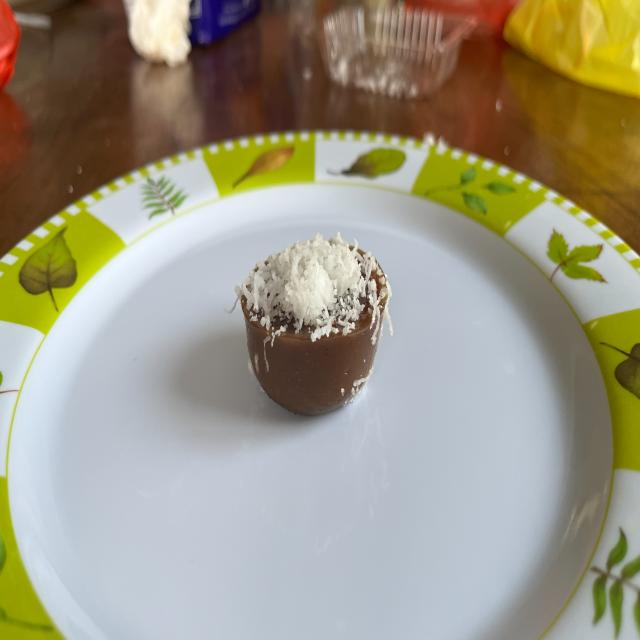Kuih lompang: (235, 233, 392, 416)
